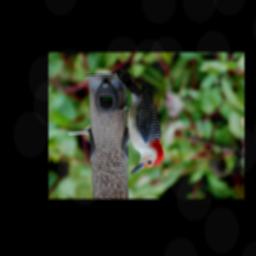Woodpecker: (112, 63, 164, 174)
